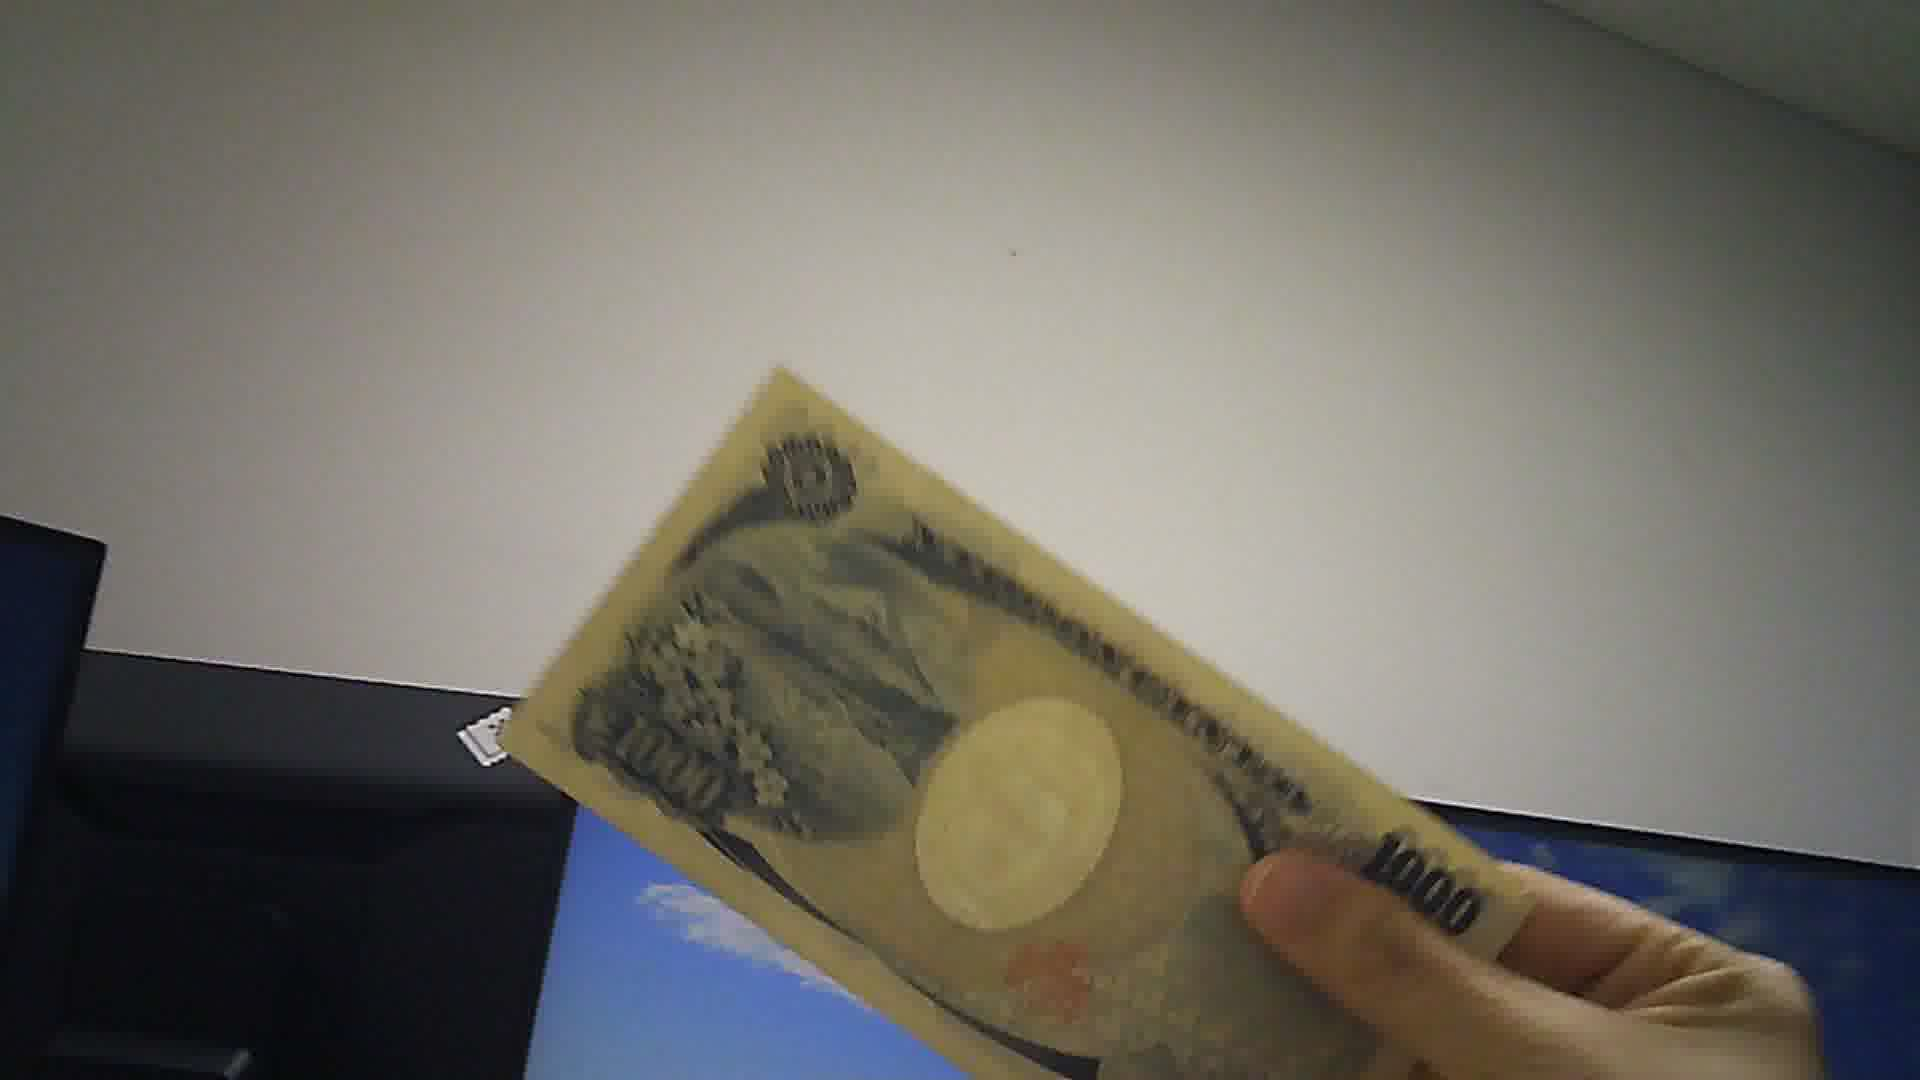1,000 Yen: (514, 371, 1542, 1073)
